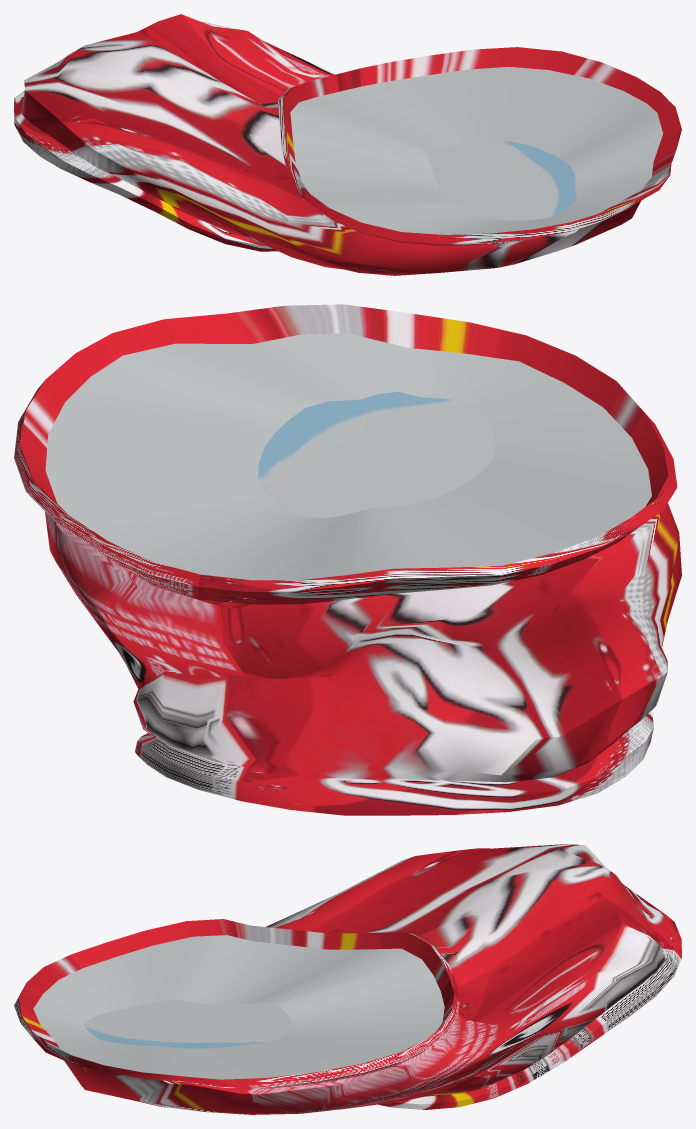
Rendered from can-02-botles.fbx.
3 views of the same model, one above another, from view 1: azimuth 30°, elevation 25°; view 2: azimuth 150°, elevation 25°; view 3: azimuth 270°, elevation 25° (orthographic). The views are drawn at different scales.
Visible parts, largest first — view 1: can_02_botles_cans_0; view 2: can_02_botles_cans_0; view 3: can_02_botles_cans_0.
Boxes of the visible parts, x1,y1,x2,y2 form: can_02_botles_cans_0: (14,14,681,275); can_02_botles_cans_0: (14,304,681,815); can_02_botles_cans_0: (14,844,681,1114).
Size of the model in its own units: 2.62 by 0.7081 by 2.96.
